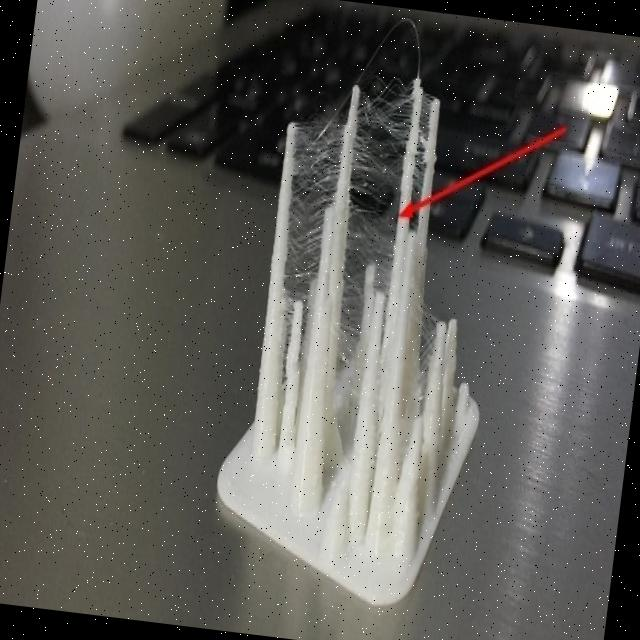stringing: (331, 71, 418, 374), (274, 100, 352, 352), (388, 274, 446, 448)
